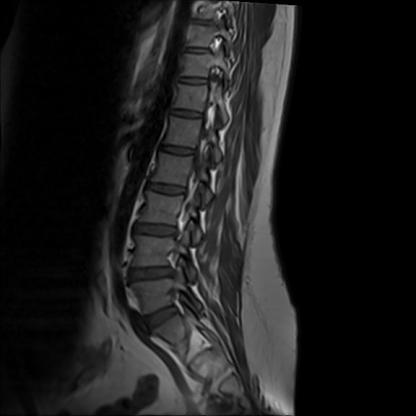Disc Bulgerotation: (128, 265, 174, 285), (141, 307, 184, 328), (136, 220, 179, 240)
